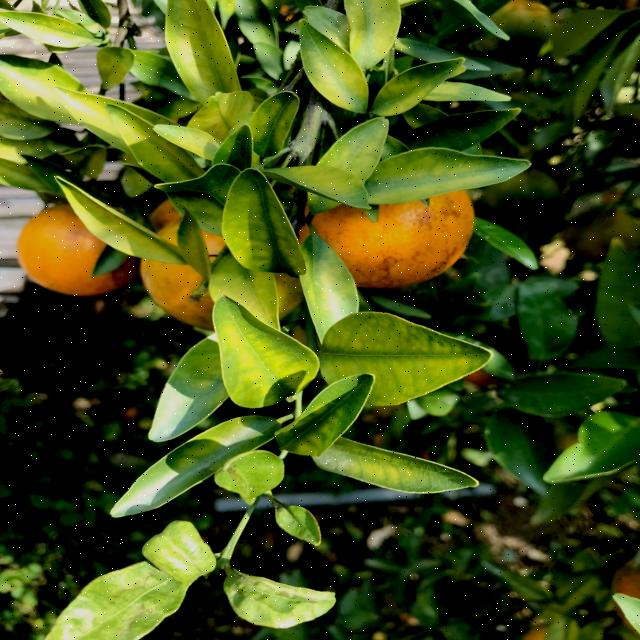greening: (193, 302, 329, 412), (327, 314, 495, 399), (226, 169, 306, 276), (364, 146, 526, 198), (322, 443, 478, 492), (164, 0, 235, 91), (297, 27, 367, 112)
